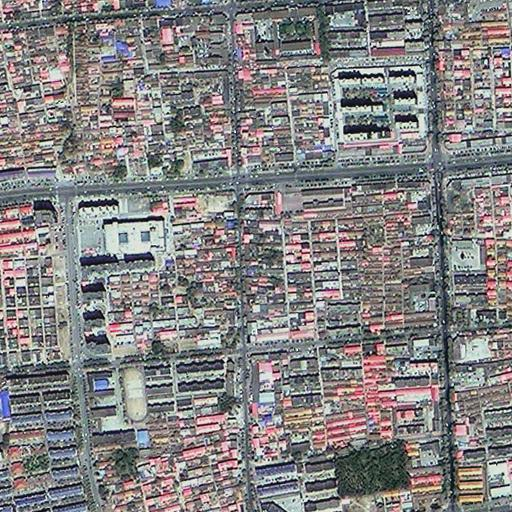school: (85, 359, 149, 446), (277, 181, 348, 217)
